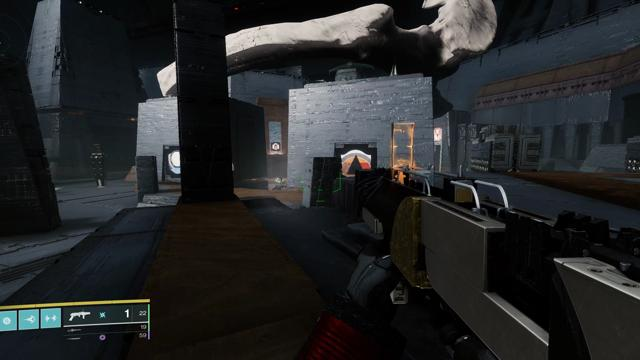pyramid: (341, 150, 371, 177)
traveler: (168, 150, 181, 174)
